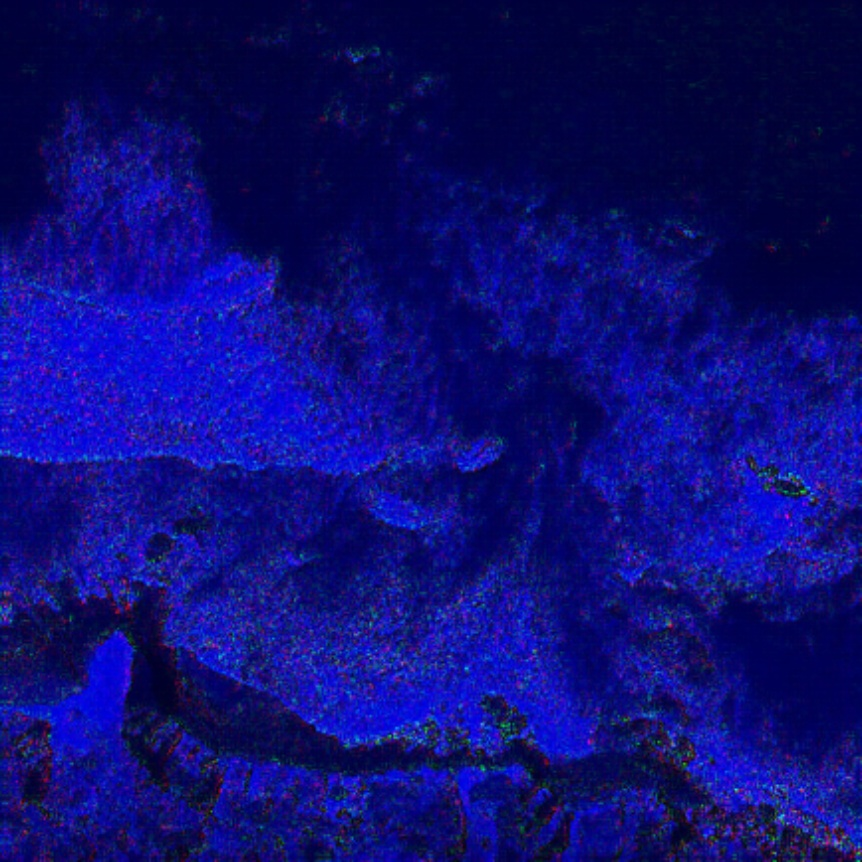rip_current: (198, 104, 638, 655)
